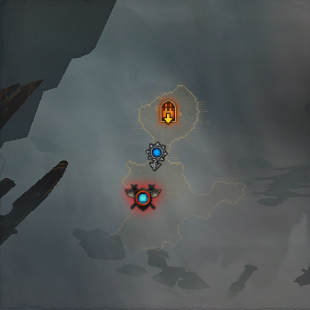Exit: (159, 99, 178, 127)
